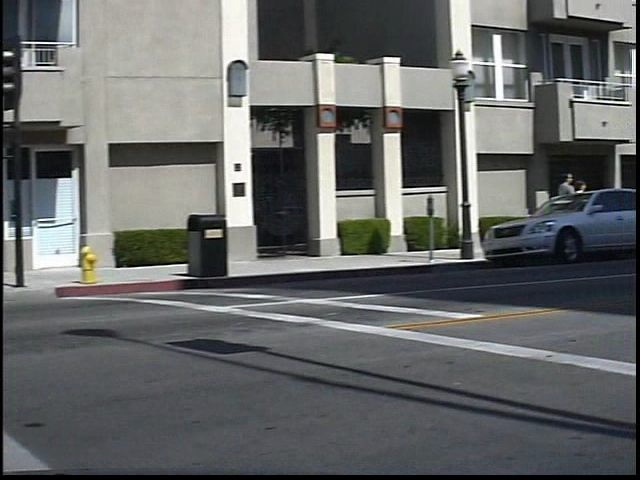person: (563, 168, 587, 244), (583, 177, 603, 237)
